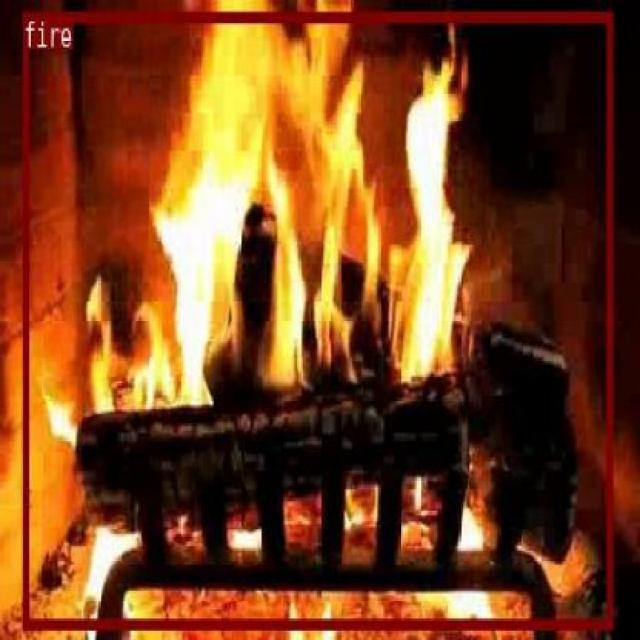Fire: (22, 9, 612, 626)
